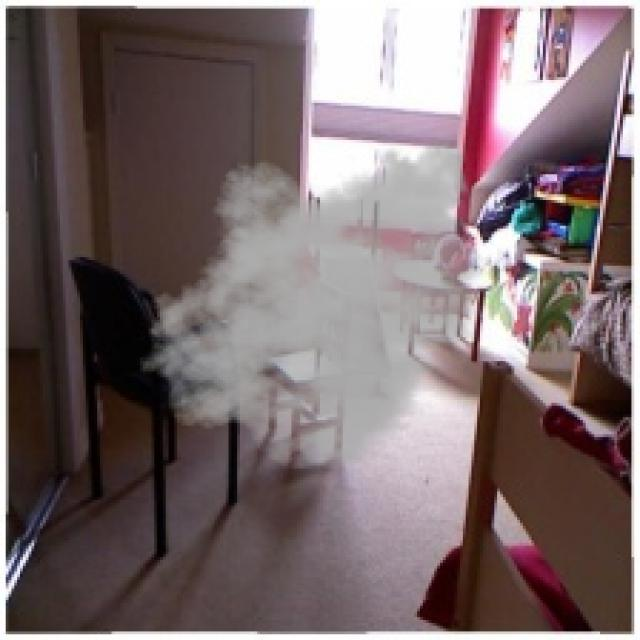smoke: (137, 126, 489, 471)
